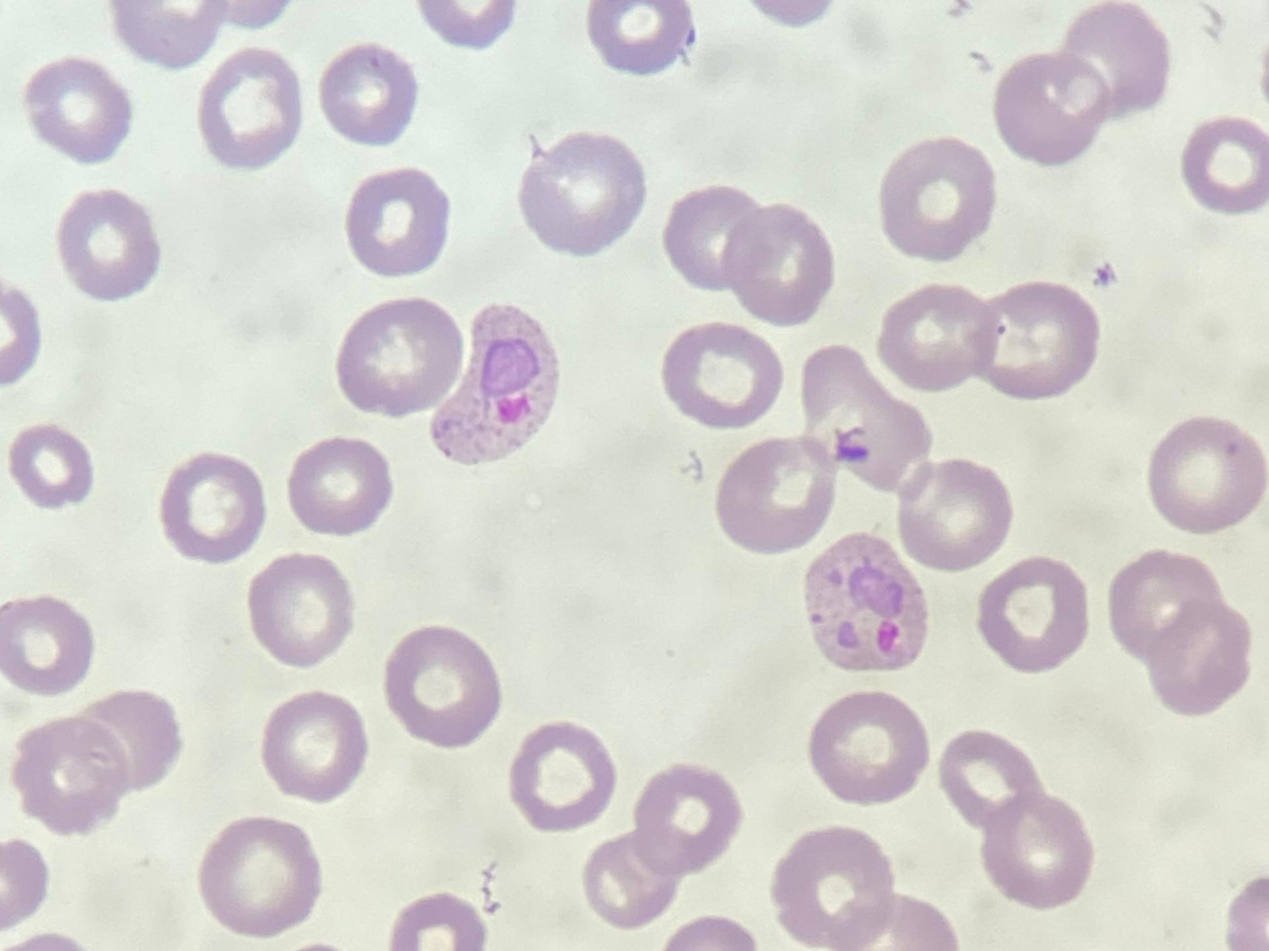Infected: (428, 303, 560, 468), (808, 532, 927, 675)
Uninfected: (334, 296, 466, 419), (519, 131, 647, 256), (777, 826, 897, 951), (1148, 413, 1269, 536), (198, 818, 322, 938), (973, 280, 1100, 396), (715, 436, 836, 555), (722, 201, 835, 328), (882, 137, 996, 260), (975, 555, 1091, 675), (993, 52, 1111, 169), (808, 693, 930, 806), (985, 785, 1096, 909), (56, 688, 182, 795), (896, 458, 1013, 573), (385, 627, 500, 744), (196, 45, 303, 169), (663, 323, 787, 429), (1062, 0, 1167, 123), (17, 717, 121, 839), (881, 283, 996, 392), (1110, 552, 1225, 660), (942, 729, 1050, 839), (249, 555, 351, 670), (1147, 602, 1250, 715), (664, 184, 774, 289), (261, 691, 365, 802), (25, 55, 129, 165), (162, 451, 264, 563), (636, 760, 740, 868), (345, 169, 449, 276), (55, 190, 158, 298), (512, 724, 613, 831), (288, 437, 392, 535), (321, 44, 418, 148), (585, 826, 679, 926), (1181, 118, 1269, 215), (0, 600, 89, 692), (585, 0, 691, 75), (9, 426, 95, 506)
